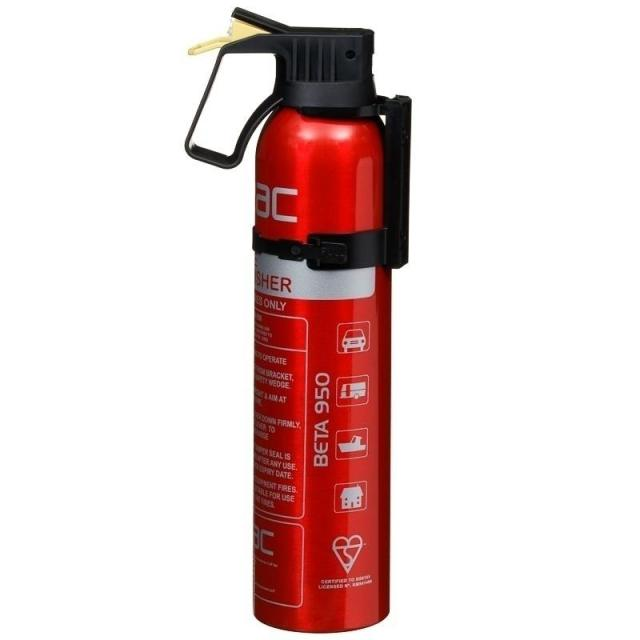fire_extinguisher: (178, 3, 416, 638)
